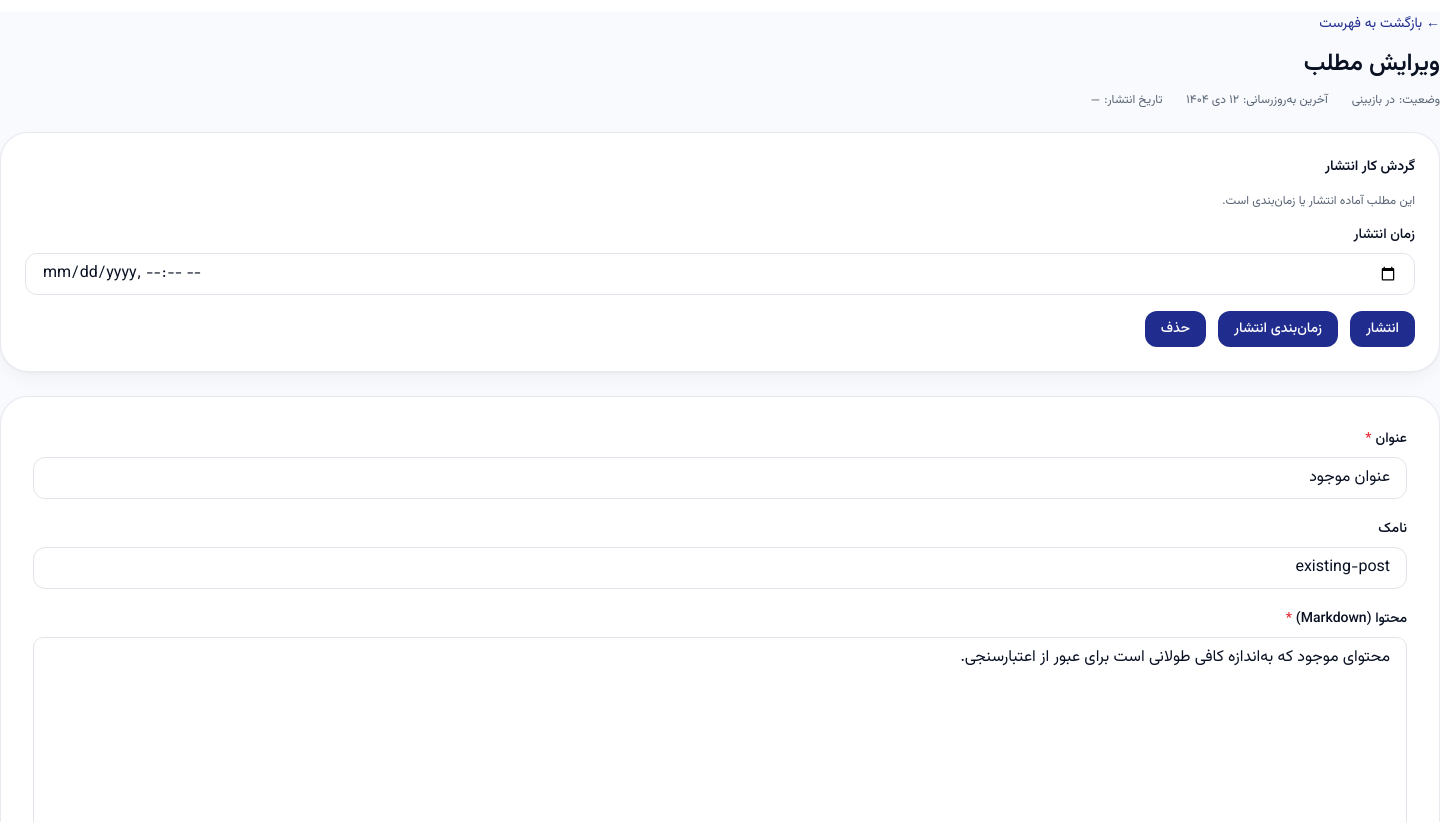
Scenario: BlogEditForm › workflow actions › surfaces a 403 from publish
The image size is (1452, 822).
Expected: the field showing "عنوان موجود" is shown, x1=33 y1=457 x2=1407 y2=499
Click the button "انتشار".
click(1382, 329)  # box x1=1350 y1=311 x2=1415 y2=347
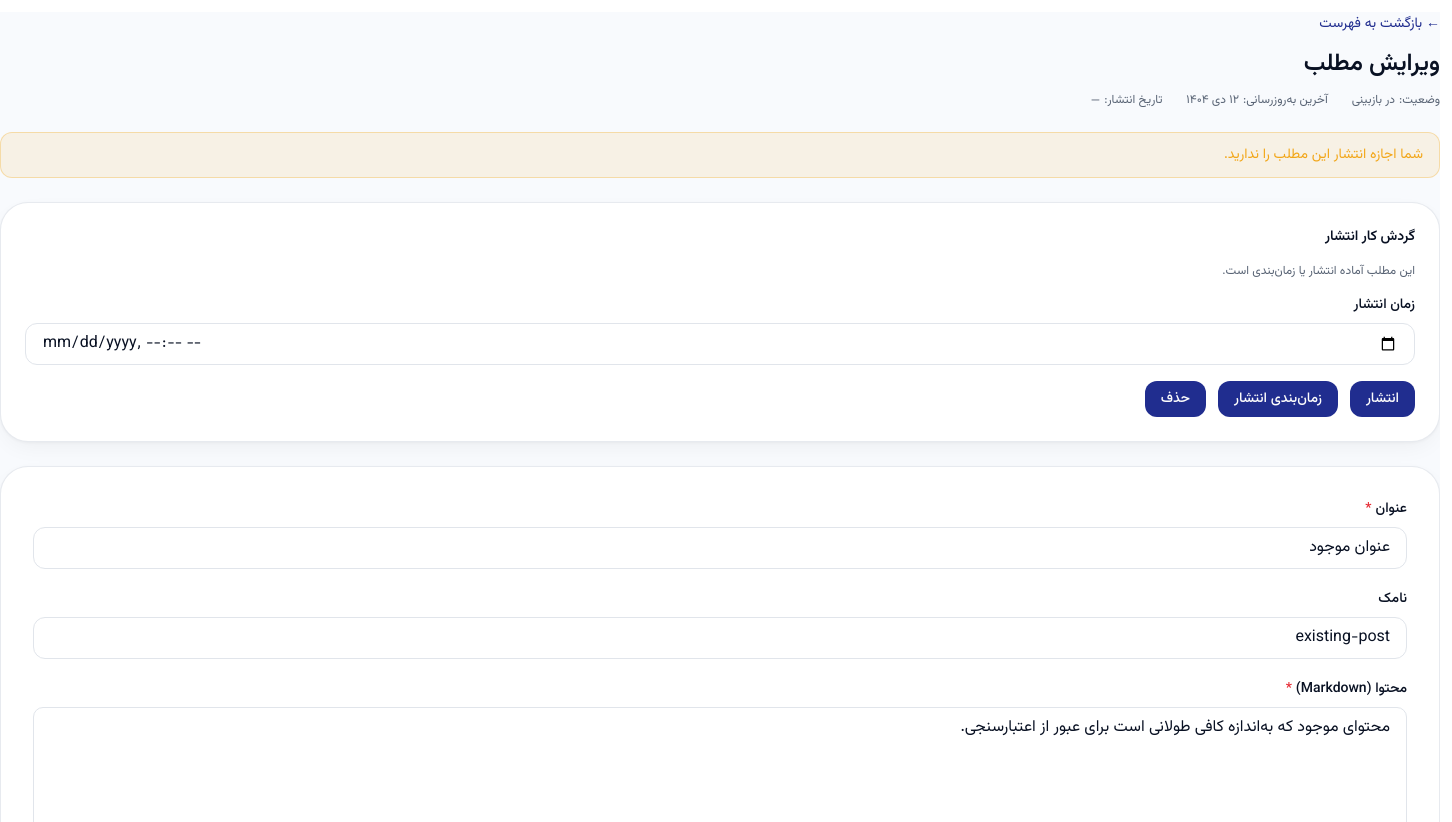
Now the text "شما اجازه انتشار این مطلب را ندارید." is shown, box x1=0 y1=132 x2=1440 y2=178
